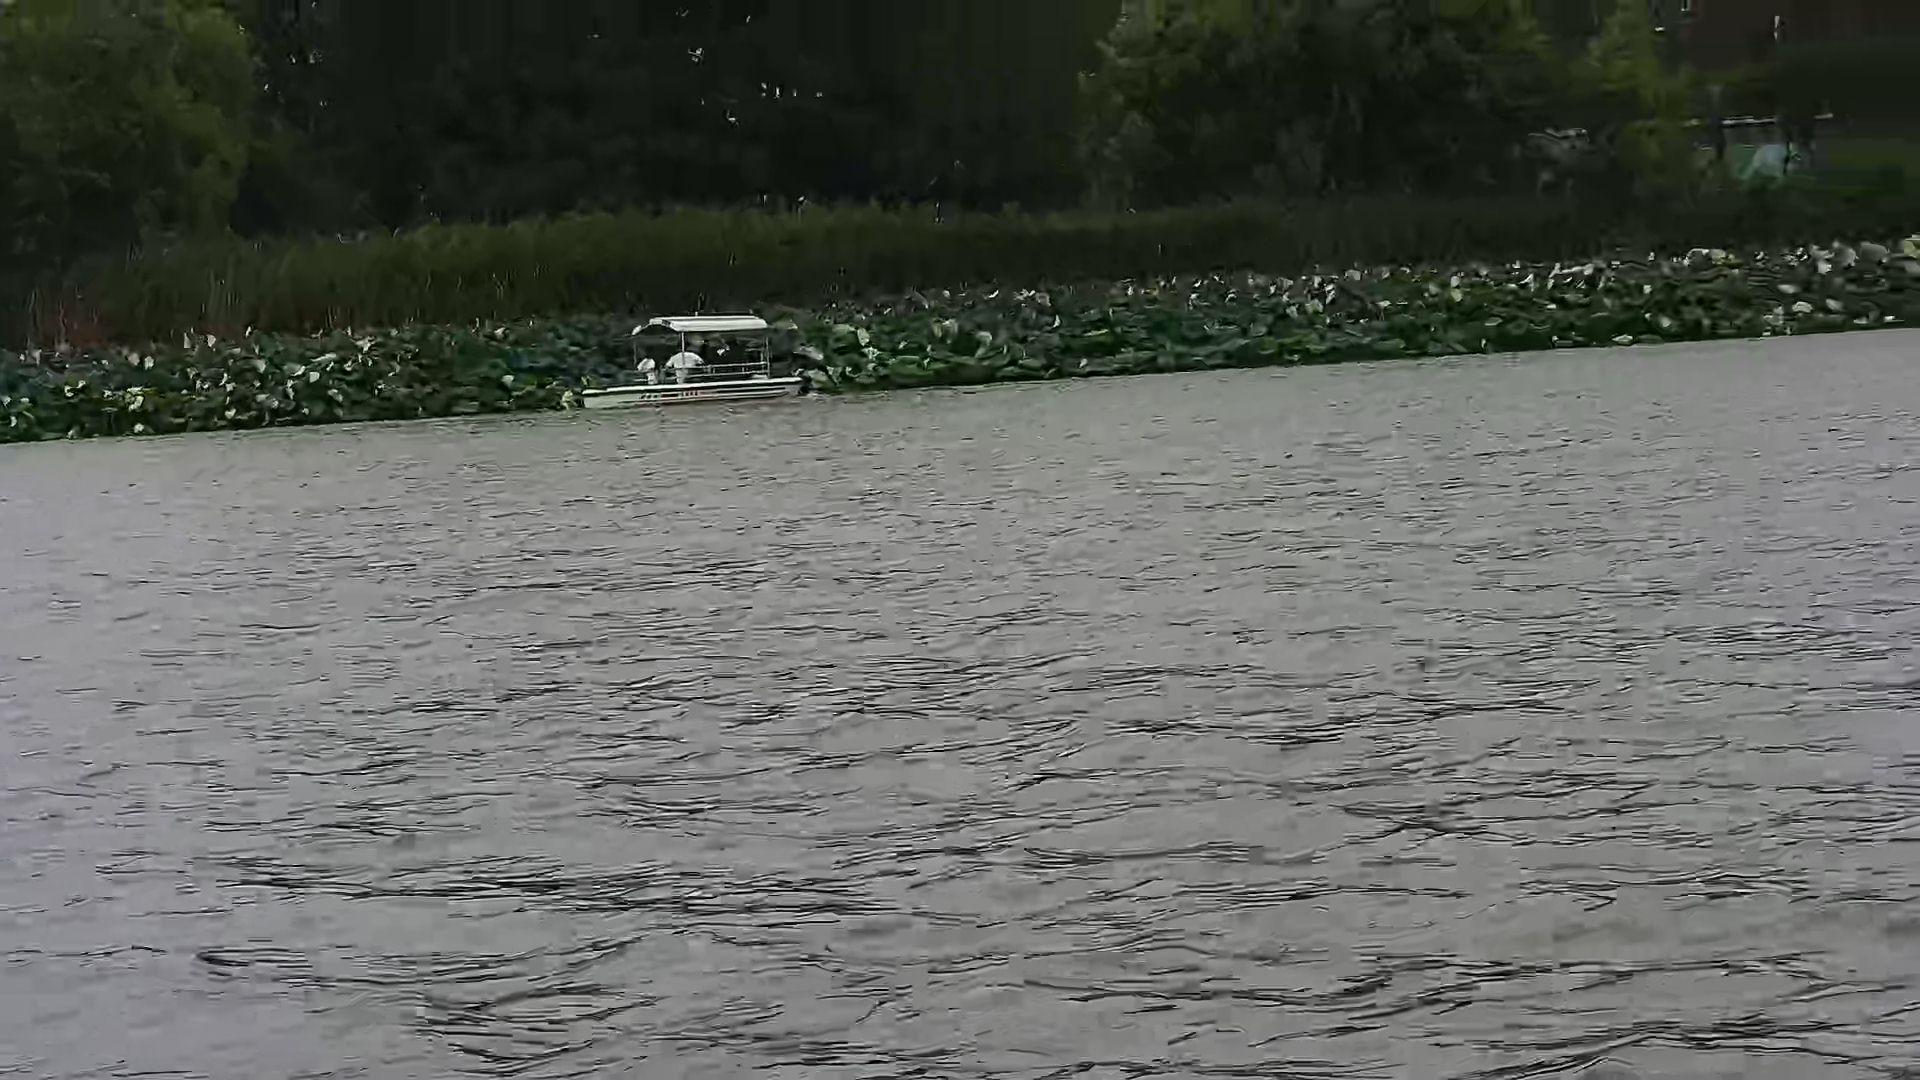boat: (566, 313, 802, 400)
